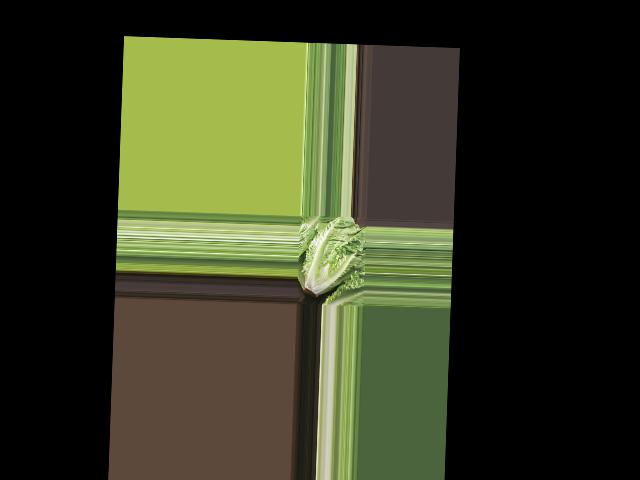lettuce: (295, 216, 362, 302)
